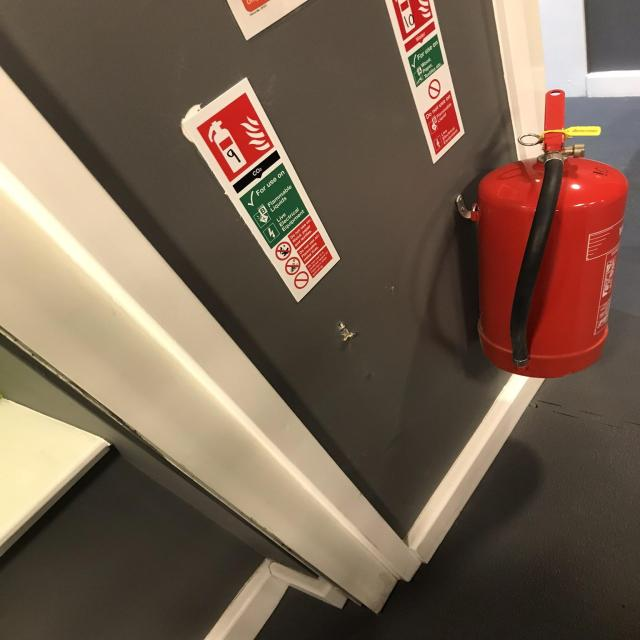fire_extinguisher: (460, 86, 632, 381)
